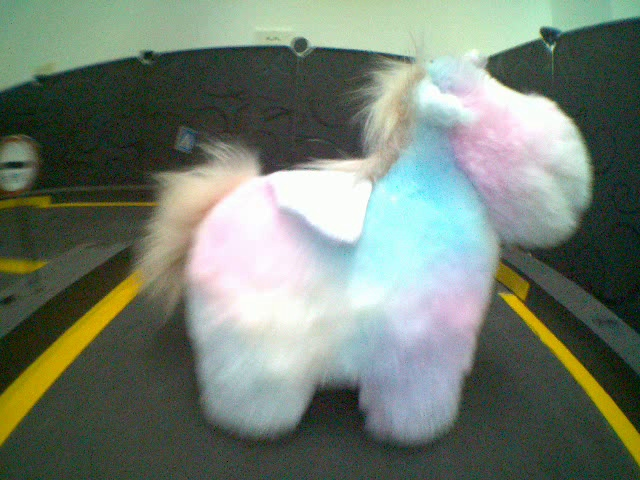unicorn: (133, 24, 595, 451)
